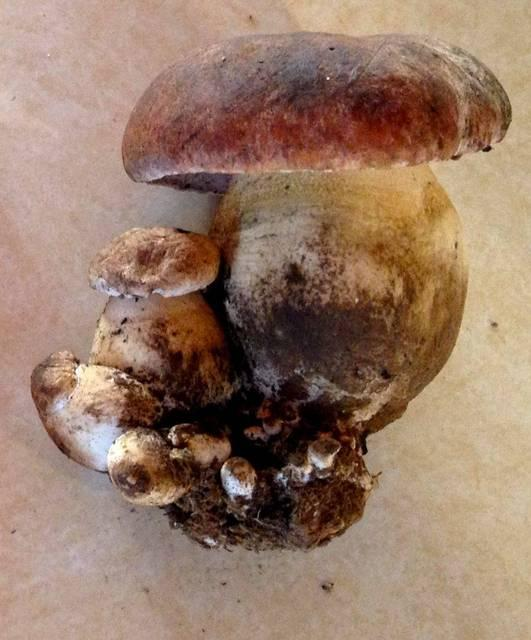Edible Mushroom: (30, 29, 513, 551)
